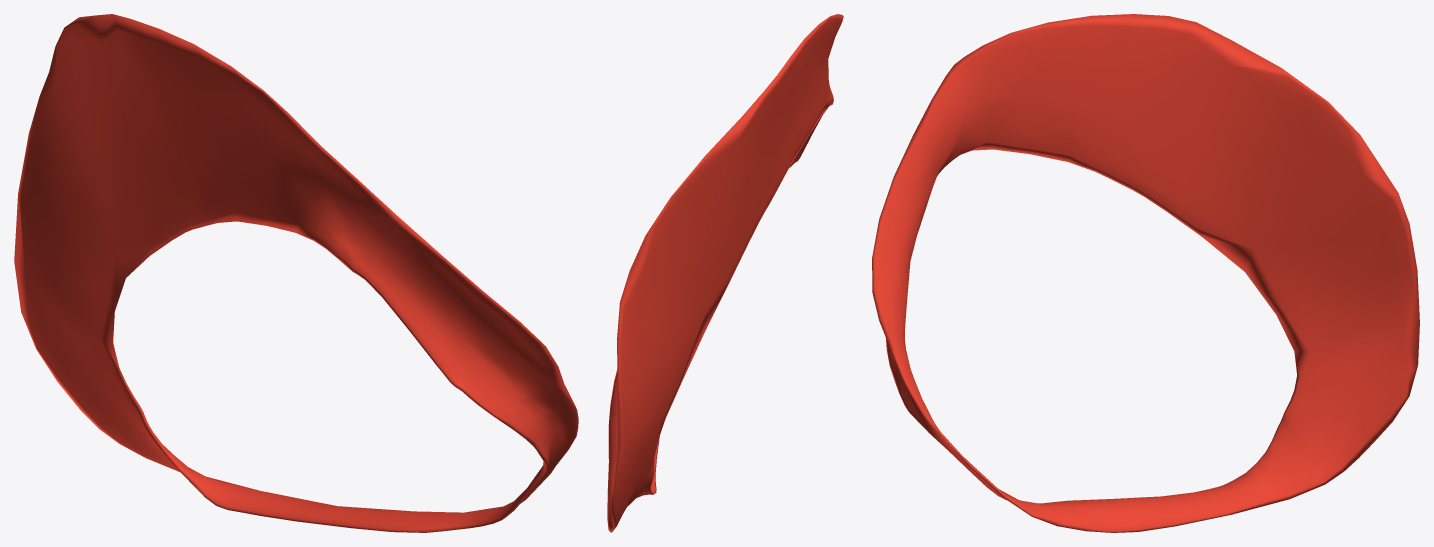
Rendered from Obturator_internus-Pelvic_insertion.r_Generated_Mesh_From_X3D.8.glb.
3 renders of one model, left to right at view 1: azimuth 30°, elevation 25°; view 2: azimuth 150°, elevation 25°; view 3: azimuth 270°, elevation 25°, orthographic. The views are drawn at different scales.
Parts seen in each view (by area): view 1: Obturator_internus-Pelvic_insertion.r_Generated_Mesh_From_X3; view 2: Obturator_internus-Pelvic_insertion.r_Generated_Mesh_From_X3; view 3: Obturator_internus-Pelvic_insertion.r_Generated_Mesh_From_X3.
Part boxes in pixels (left/top/right/bottom): Obturator_internus-Pelvic_insertion.r_Generated_Mesh_From_X3: left=14, top=14, right=578, bottom=532; Obturator_internus-Pelvic_insertion.r_Generated_Mesh_From_X3: left=607, top=14, right=843, bottom=532; Obturator_internus-Pelvic_insertion.r_Generated_Mesh_From_X3: left=872, top=14, right=1419, bottom=532.
Size of the model in its own units: 0.0322 by 0.0584 by 0.0664.
